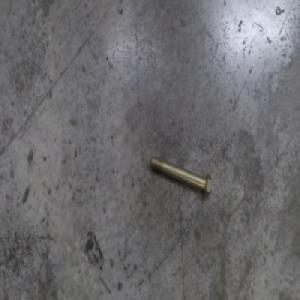Bolt: (149, 152, 212, 198)
